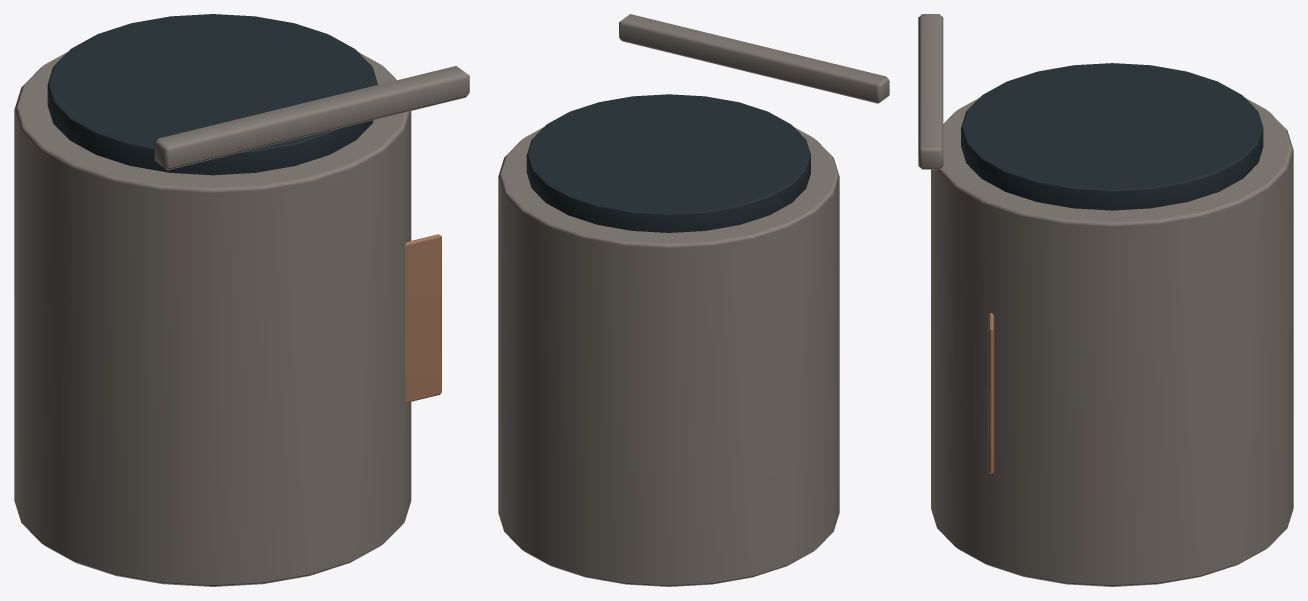
The model's file is prop_bucket_old_01.glb.
3 views of the same model, side by side, from view 1: azimuth 30°, elevation 25°; view 2: azimuth 150°, elevation 25°; view 3: azimuth 270°, elevation 25° (orthographic). The views are drawn at different scales.
Parts seen in each view (by area): view 1: bucket_body.001, bucket_dark_inside.001, bucket_handle.001, bucket_rust_patch.001; view 2: bucket_body.001, bucket_dark_inside.001, bucket_handle.001; view 3: bucket_body.001, bucket_dark_inside.001, bucket_handle.001, bucket_rust_patch.001.
Part boxes in pixels (x1,y1,x2,y2): bucket_body.001: (14,52,411,586); bucket_dark_inside.001: (47,14,377,175); bucket_handle.001: (154,66,469,170); bucket_rust_patch.001: (405,234,441,402); bucket_body.001: (498,127,839,586); bucket_dark_inside.001: (526,94,810,232); bucket_handle.001: (619,14,889,103); bucket_body.001: (931,98,1293,586); bucket_dark_inside.001: (961,63,1263,210); bucket_handle.001: (918,14,943,169); bucket_rust_patch.001: (988,312,994,473).
Size of the model in its own units: 0.36 by 0.4725 by 0.3725.
